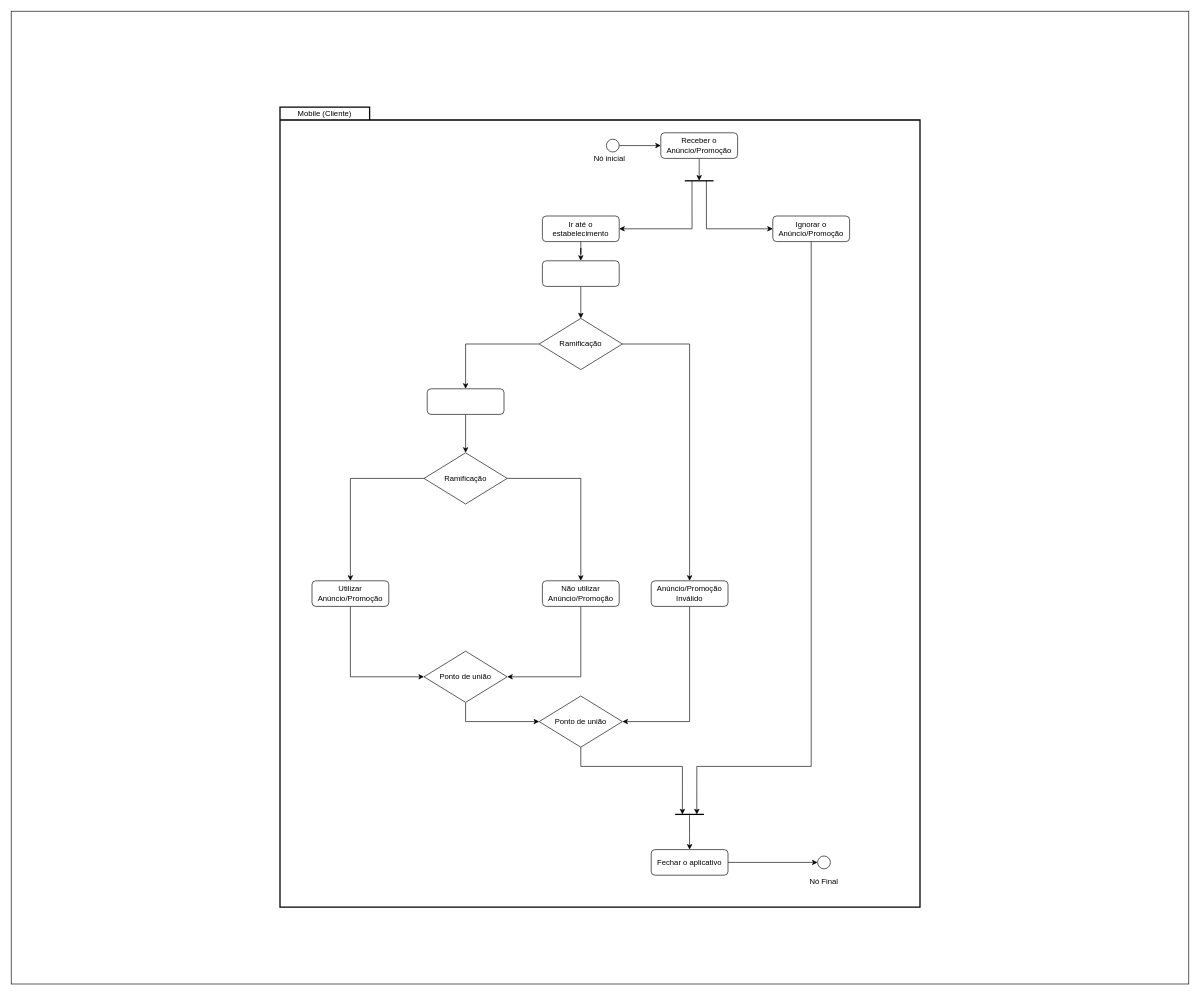
The diagram is 1200 pixels wide and 995 high, and some of its shapes have lost their labels. The centre of each missing label's shape, as x and y in pixels:
Anúncio/Promoção Válido: (x=465, y=401)
Mostrar Anúncio/Promoção: (x=580, y=273)
